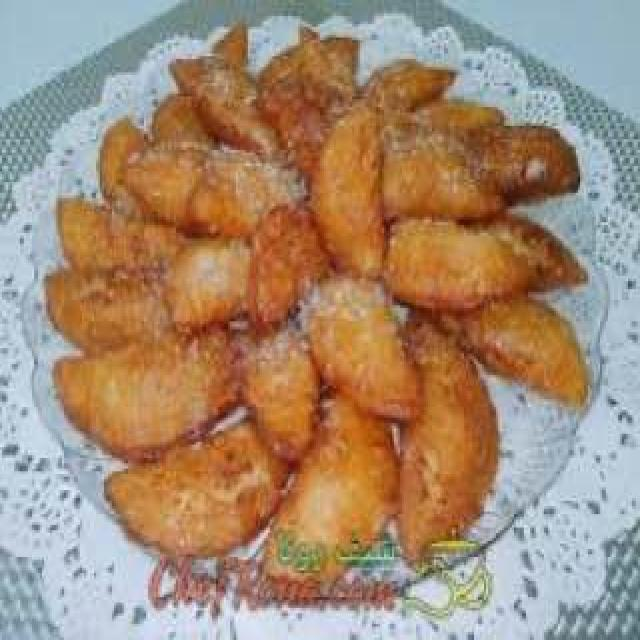ataif: (41, 15, 597, 584)
